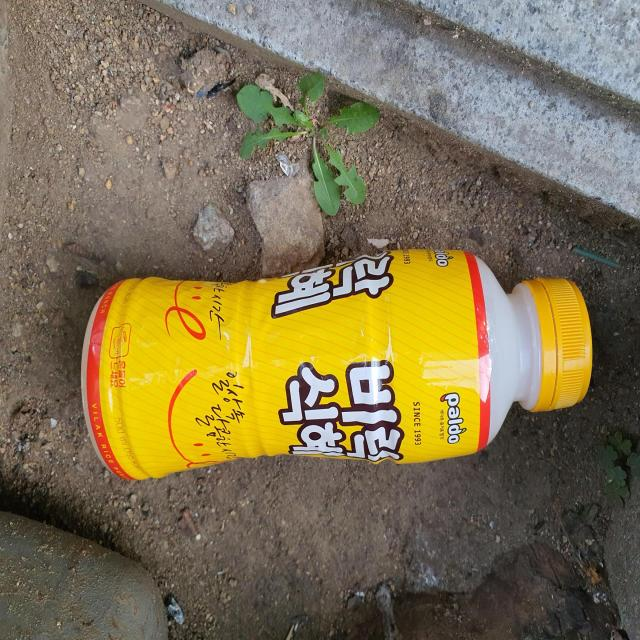plastic_bottle: (82, 250, 594, 482)
